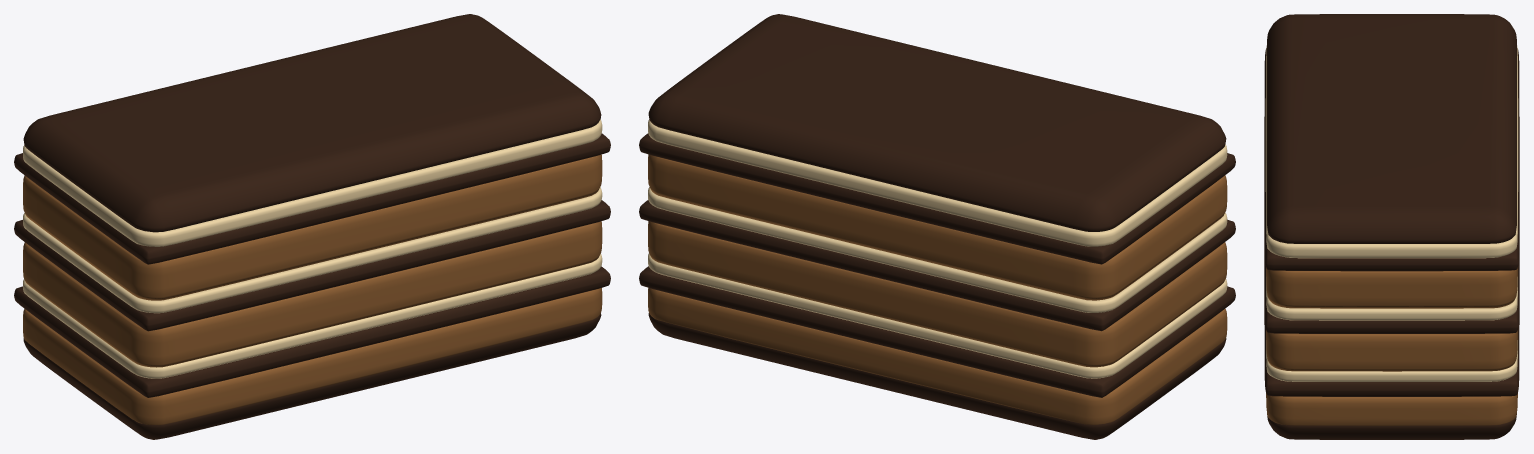
File: square.glb
3 renders of one model, left to right at view 1: azimuth 30°, elevation 25°; view 2: azimuth 150°, elevation 25°; view 3: azimuth 270°, elevation 25°, orthographic. The views are drawn at different scales.
Visible parts, largest first — view 1: Chocolate.002; view 2: Chocolate.002; view 3: Chocolate.002.
Part boxes in pixels (left/top/right/bottom): Chocolate.002: left=14, top=14, right=610, bottom=439; Chocolate.002: left=639, top=14, right=1235, bottom=439; Chocolate.002: left=1264, top=14, right=1519, bottom=439.
Size of the model in its own units: 20.07 by 9.97 by 10.05.
